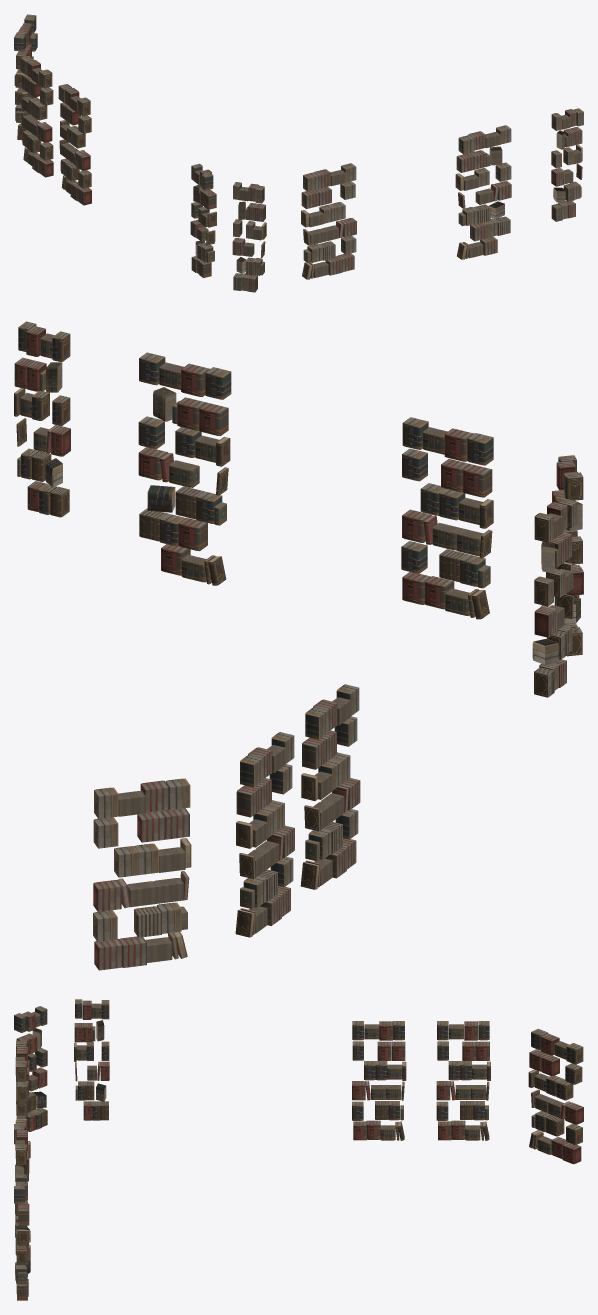
The model's file is Libros.obj.
3 renders of one model, top to bottom at view 1: azimuth 30°, elevation 25°; view 2: azimuth 150°, elevation 25°; view 3: azimuth 270°, elevation 25°, orthographic. The views are drawn at different scales.
Visible parts, largest first — view 1: pasted__Indoor_MdProps_Library_Shelf04_BookGroup02_Vo_0 group pa, group pasted__polySurface212, pasted__polySurface332 pasted__Indoor_MdProps_Library_Shelf04_Bo, group pasted__polySurface329, group pasted__polySurface331, group pasted__polySurface330; view 2: pasted__Indoor_MdProps_Library_Shelf04_BookGroup02_Vo_0 group pa, group pasted__polySurface212, pasted__polySurface332 pasted__Indoor_MdProps_Library_Shelf04_Bo, group pasted__polySurface329, group pasted__polySurface330, group pasted__polySurface331; view 3: pasted__Indoor_MdProps_Library_Shelf04_BookGroup02_Vo_0 group pa, pasted__polySurface332 pasted__Indoor_MdProps_Library_Shelf04_Bo, group pasted__polySurface330, group pasted__polySurface331, group pasted__polySurface329, group pasted__polySurface212.
Part boxes in pixels (box(x1,y1,x2,y2)): pasted__Indoor_MdProps_Library_Shelf04_BookGroup02_Vo_0 group pa: box(14, 14, 356, 279); group pasted__polySurface212: box(455, 125, 511, 259); pasted__polySurface332 pasted__Indoor_MdProps_Library_Shelf04_Bo: box(20, 56, 53, 177); group pasted__polySurface329: box(551, 108, 583, 221); group pasted__polySurface331: box(232, 182, 266, 292); group pasted__polySurface330: box(190, 163, 216, 277); pasted__Indoor_MdProps_Library_Shelf04_BookGroup02_Vo_0 group pa: box(93, 417, 493, 970); group pasted__polySurface212: box(138, 352, 231, 585); pasted__polySurface332 pasted__Indoor_MdProps_Library_Shelf04_Bo: box(235, 732, 294, 937); group pasted__polySurface329: box(14, 321, 70, 517); group pasted__polySurface330: box(532, 498, 577, 697); group pasted__polySurface331: box(552, 455, 583, 656); pasted__Indoor_MdProps_Library_Shelf04_BookGroup02_Vo_0 group pa: box(15, 1021, 583, 1164); pasted__polySurface332 pasted__Indoor_MdProps_Library_Shelf04_Bo: box(436, 1021, 490, 1140); group pasted__polySurface330: box(74, 999, 109, 1120); group pasted__polySurface331: box(14, 1006, 47, 1131); group pasted__polySurface329: box(14, 1174, 30, 1300); group pasted__polySurface212: box(14, 1124, 30, 1276).
Size of the model in its own units: 10.87 by 3.58 by 13.77.
Materials: 1 (1 with a texture image).
